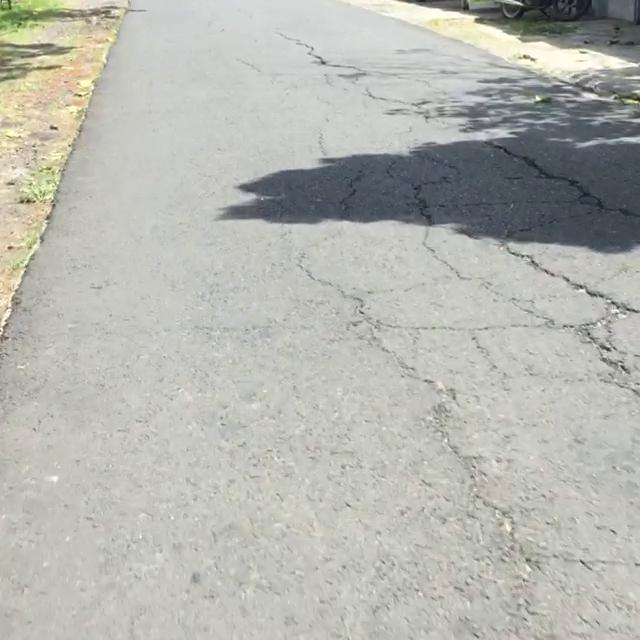retak_memanjang: (240, 210, 436, 440), (474, 237, 640, 390), (462, 118, 640, 234), (264, 9, 363, 94)
